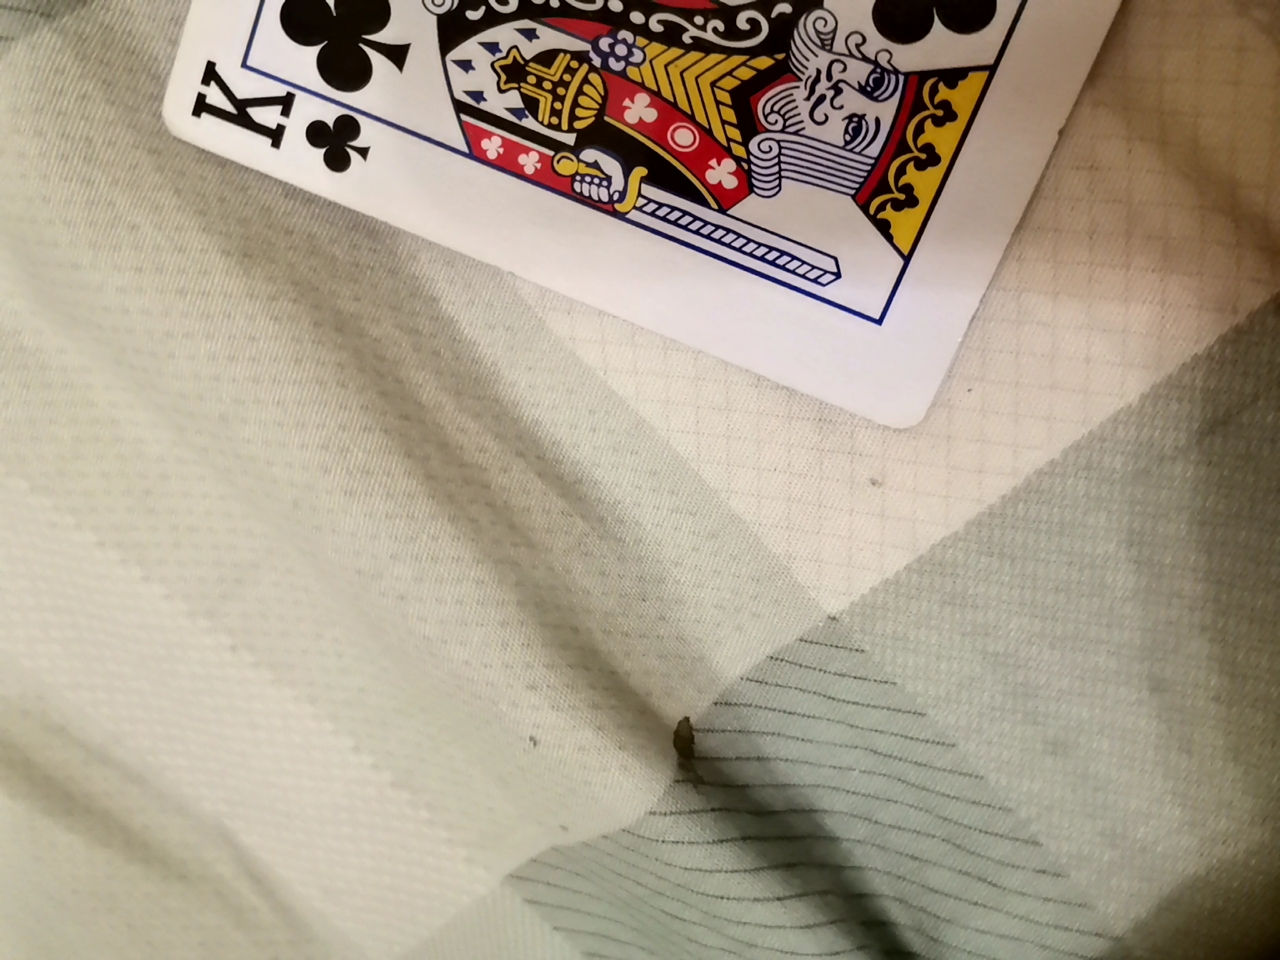mh k: (183, 0, 1178, 431)
